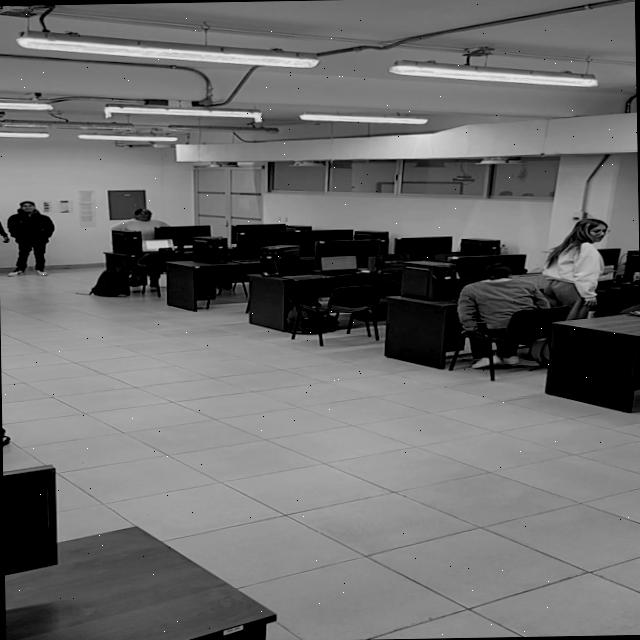Persona: (1, 200, 56, 278)
